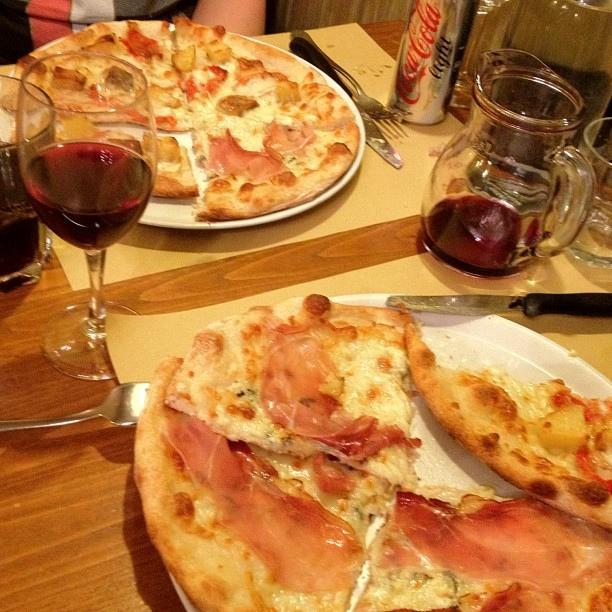pineapple: (536, 404, 586, 453), (316, 370, 345, 406), (51, 65, 86, 92), (62, 117, 97, 139), (205, 39, 232, 66), (157, 136, 182, 164), (171, 44, 196, 72), (276, 82, 295, 106)
